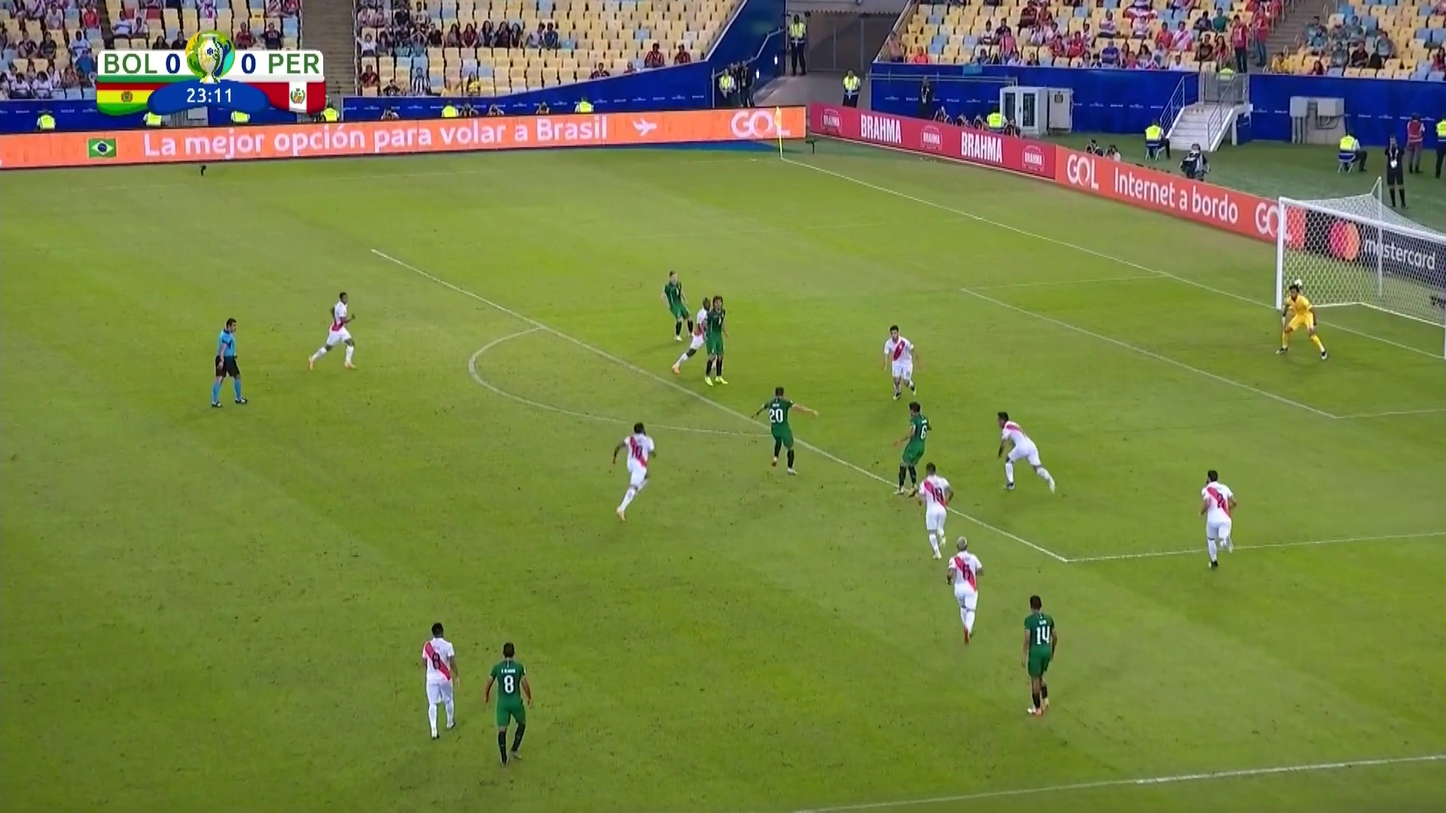player: (482, 640, 535, 771), (751, 386, 821, 477), (993, 408, 1059, 497), (1018, 593, 1062, 720), (419, 620, 463, 740), (609, 420, 659, 522), (1195, 468, 1242, 571), (307, 290, 360, 375), (945, 537, 986, 646), (890, 400, 935, 499), (1272, 287, 1331, 362), (912, 462, 956, 559), (206, 317, 250, 410), (879, 324, 924, 402), (673, 299, 714, 384), (697, 294, 731, 386), (660, 270, 695, 343)
referee: (207, 316, 250, 410)
